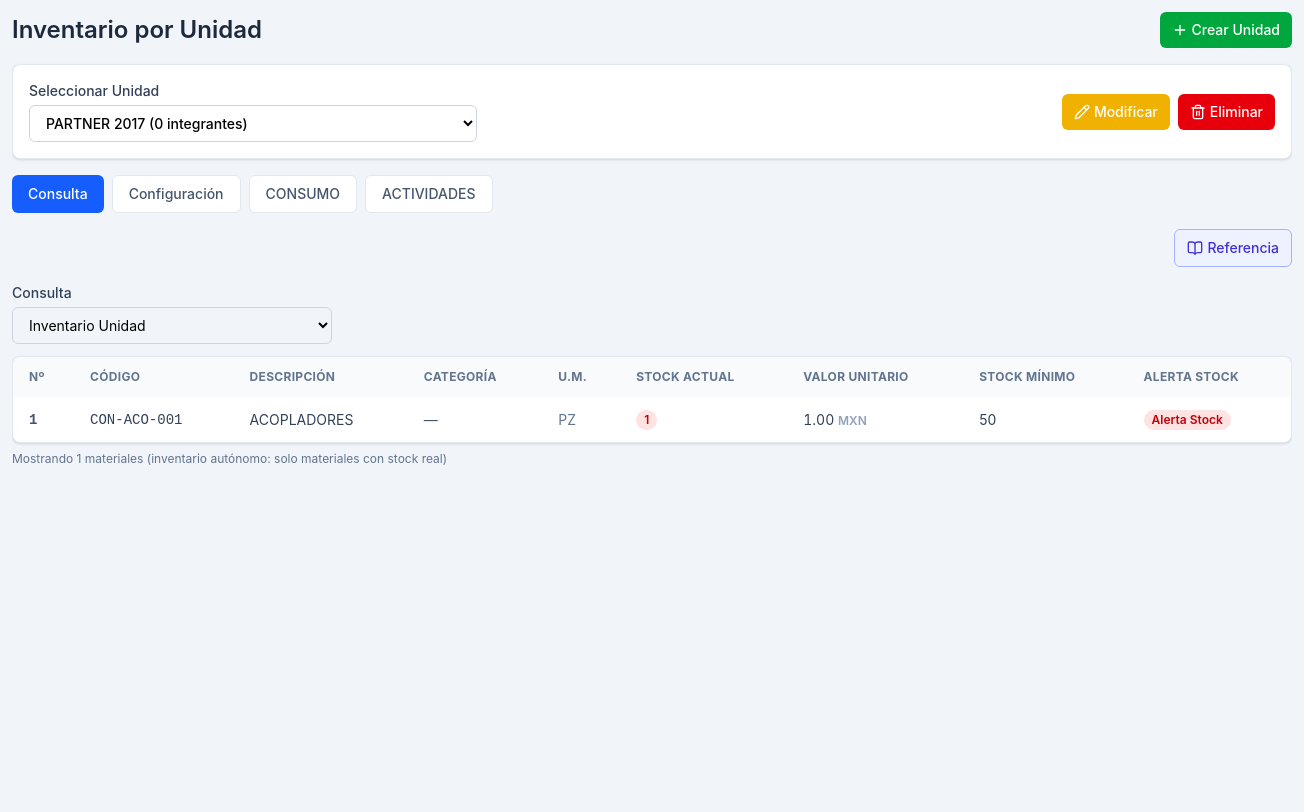
Test: Inventario por Unidad — subsección ACTIVIDADES (REQ-ACT-001) › con unidad seleccionada monta el panel ACTIVIDADES
Select "PARTNER 2017 (0 integrantes)" in the dropdown labelled "Seleccionar Unidad" at x=253, y=124, box [29,105,477,142]
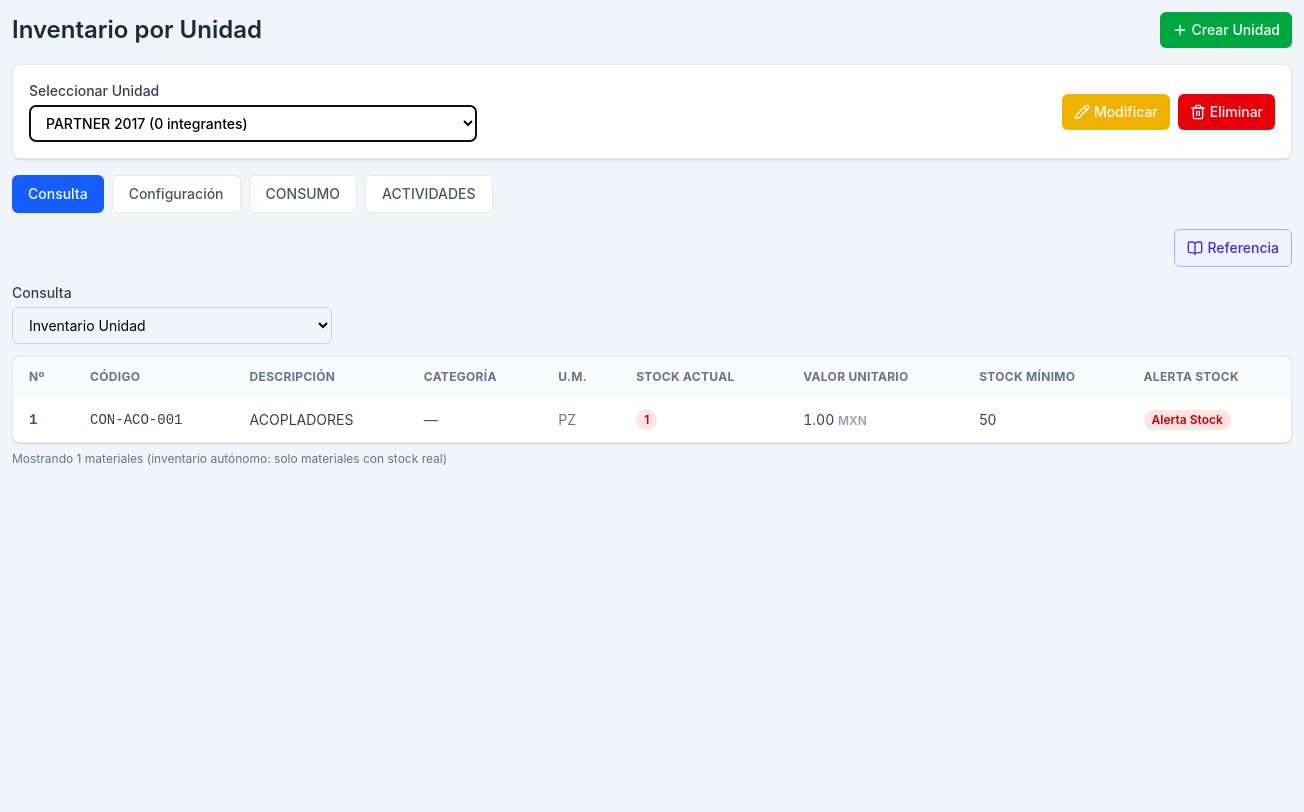
Click the button "ACTIVIDADES" at x=429, y=194, box [365,175,493,213]
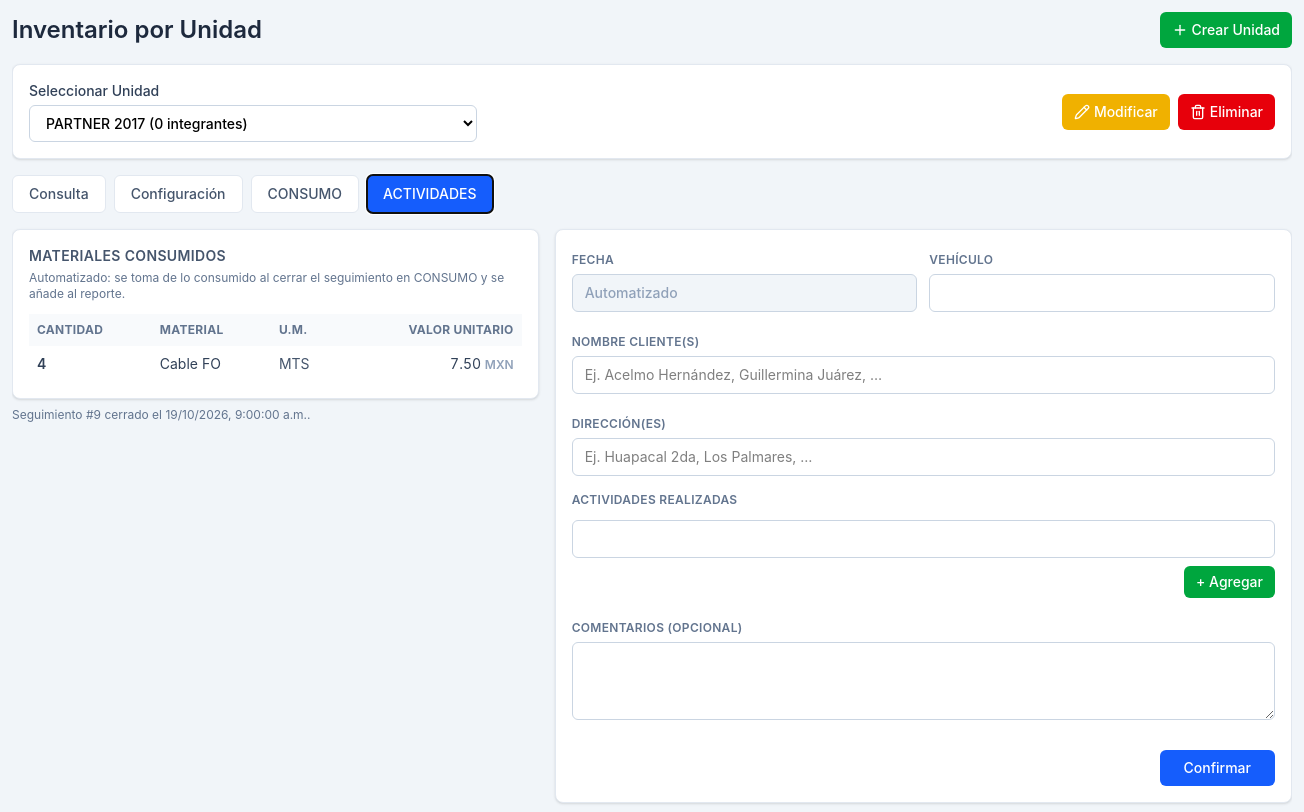
Now the heading "Materiales Consumidos" is shown, box [29,247,226,264]
Now the text "Cable FO" is shown, box [152,346,271,382]
